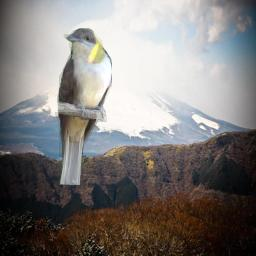Cuckoo: (55, 28, 112, 185)
